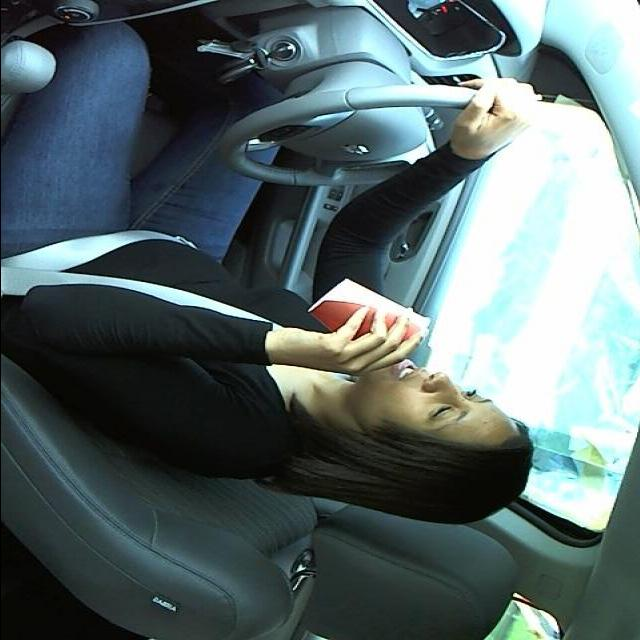drinking: (306, 275, 430, 369)
